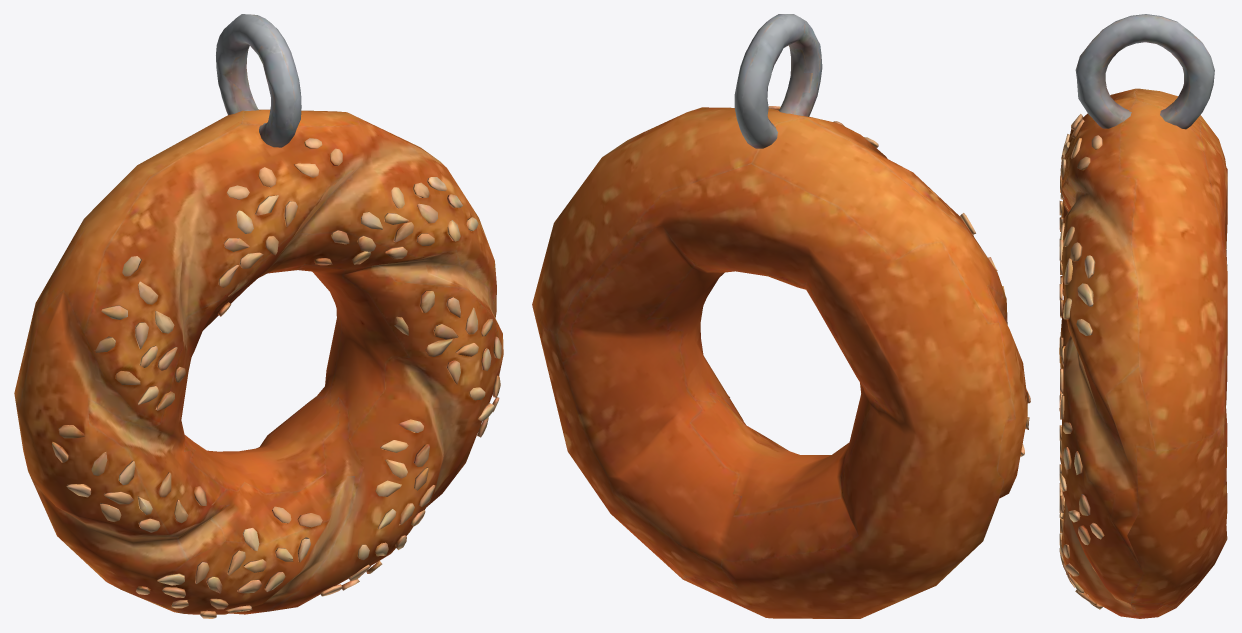
File: sus_simit.glb
3 views of the same model, side by side, from view 1: azimuth 30°, elevation 25°; view 2: azimuth 150°, elevation 25°; view 3: azimuth 270°, elevation 25° (orthographic). The views are drawn at different scales.
Visible parts, largest first — view 1: sus; view 2: sus; view 3: sus.
Part boxes in pixels (box(x1,y1,x2,y2)): sus: box(14, 14, 503, 618); sus: box(532, 14, 1030, 618); sus: box(1059, 14, 1227, 618).
Bounding box in the file's own units: 0.0269 × 0.032 × 0.00842.
Materials: 1 (1 with a texture image).
